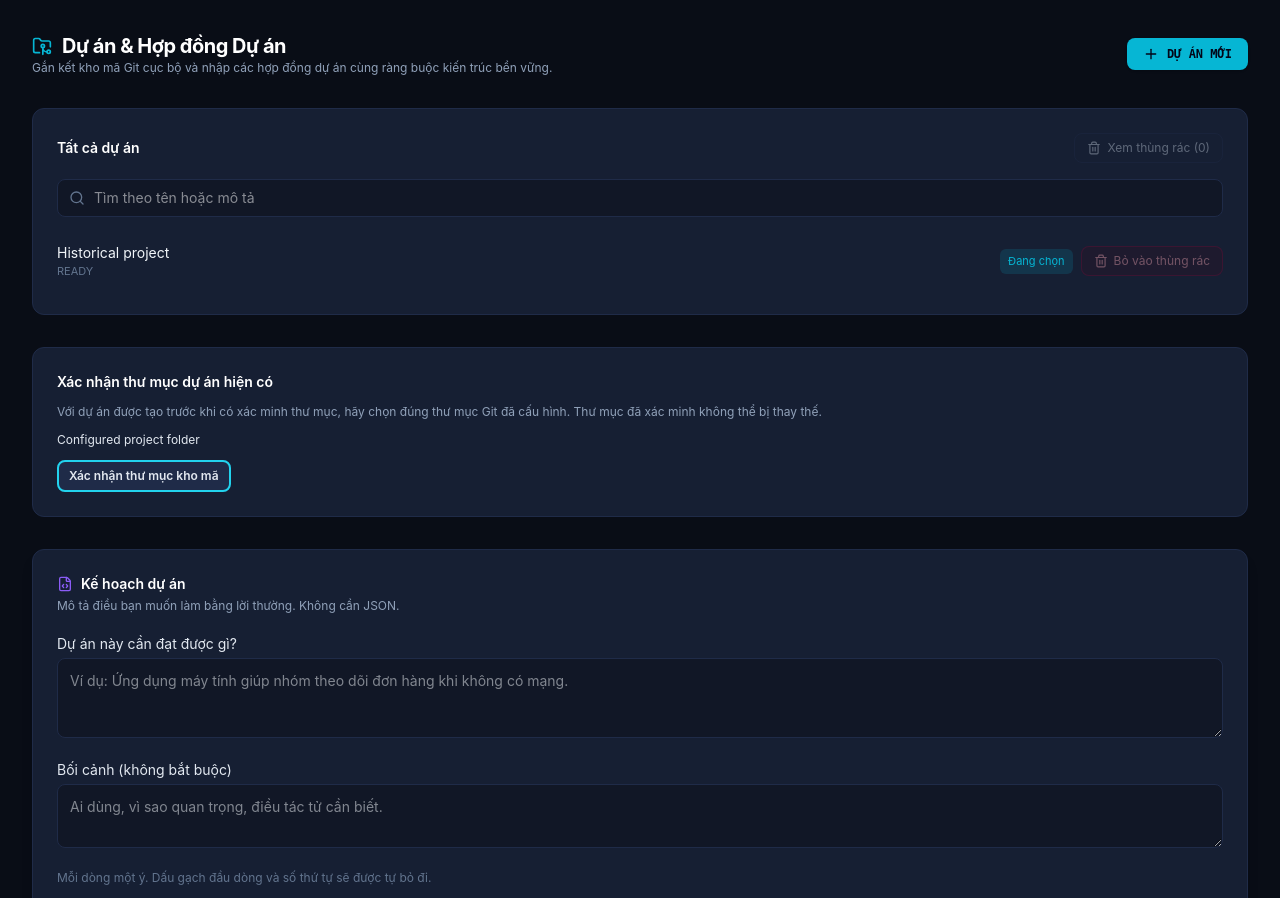
it: explicit historical repository confirmation › shows a localized blocked result and preserves failure instead of showing success
The width and height of the screenshot is (1280, 898).
Click the button "Xác nhận thư mục kho mã".
click(144, 476)  # box [57,460,231,492]
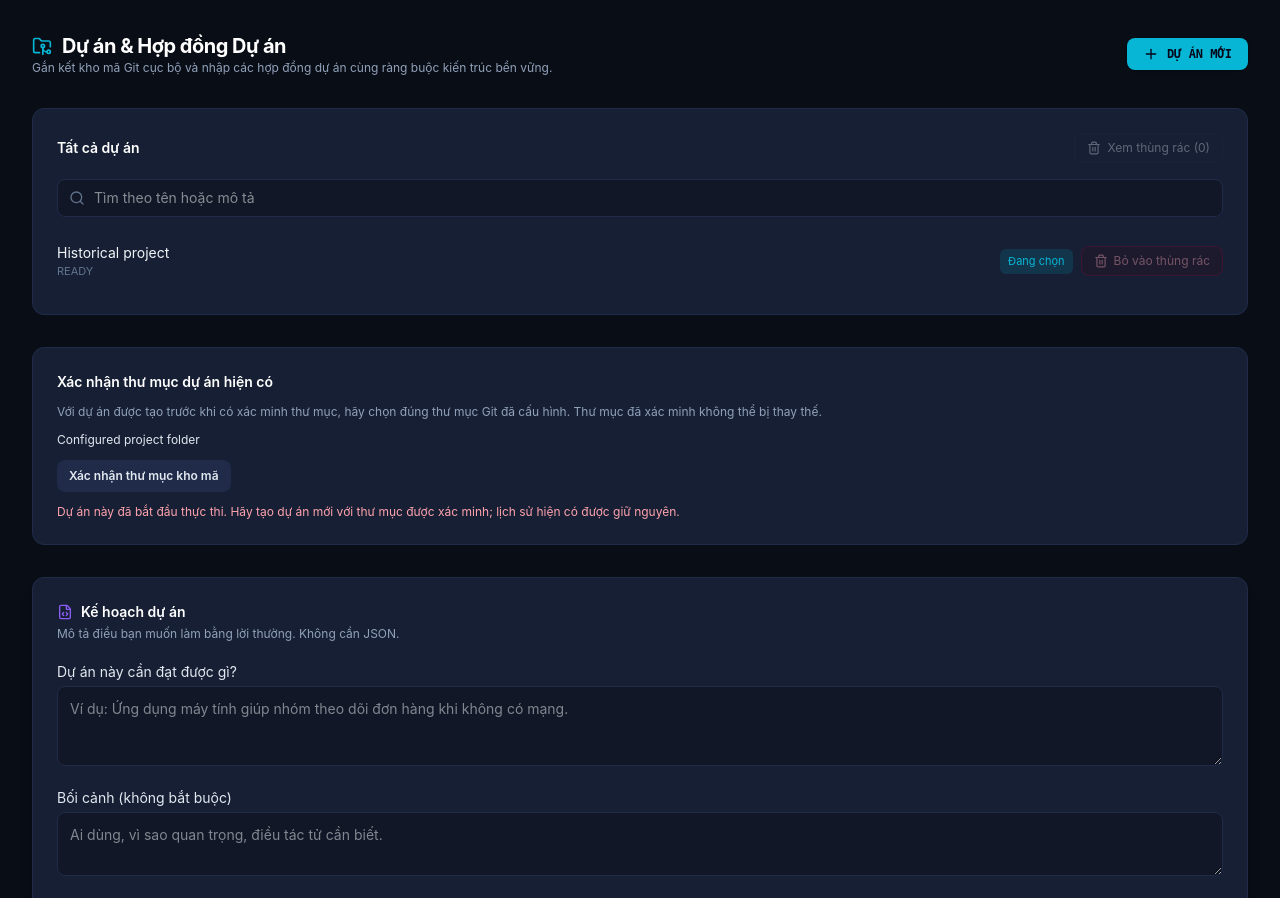
Now the message shows "Dự án này đã bắt đầu thực thi. Hãy tạo dự án mới với thư mục được xác minh; lịch sử hiện có được giữ nguyên.", box [57,504,680,518]
